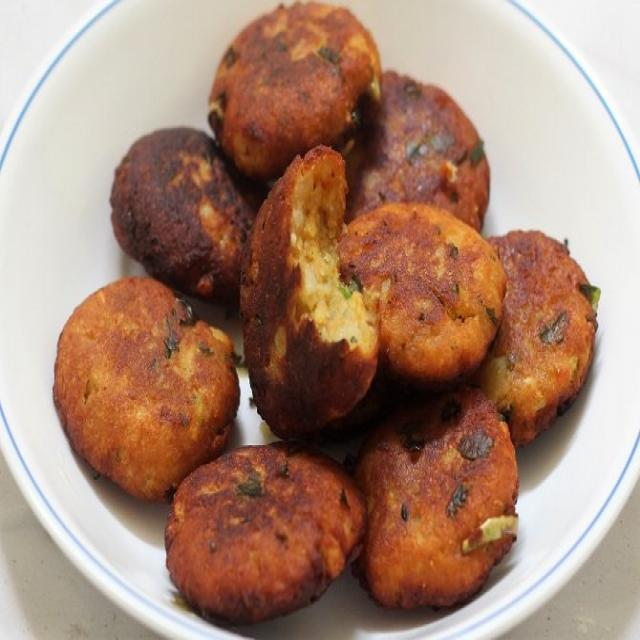Aloo Tikki: (239, 146, 379, 440), (55, 276, 238, 500), (343, 385, 518, 607), (164, 443, 366, 620), (208, 0, 381, 182), (339, 204, 506, 381), (112, 126, 255, 312), (482, 228, 596, 447), (342, 74, 490, 234)
